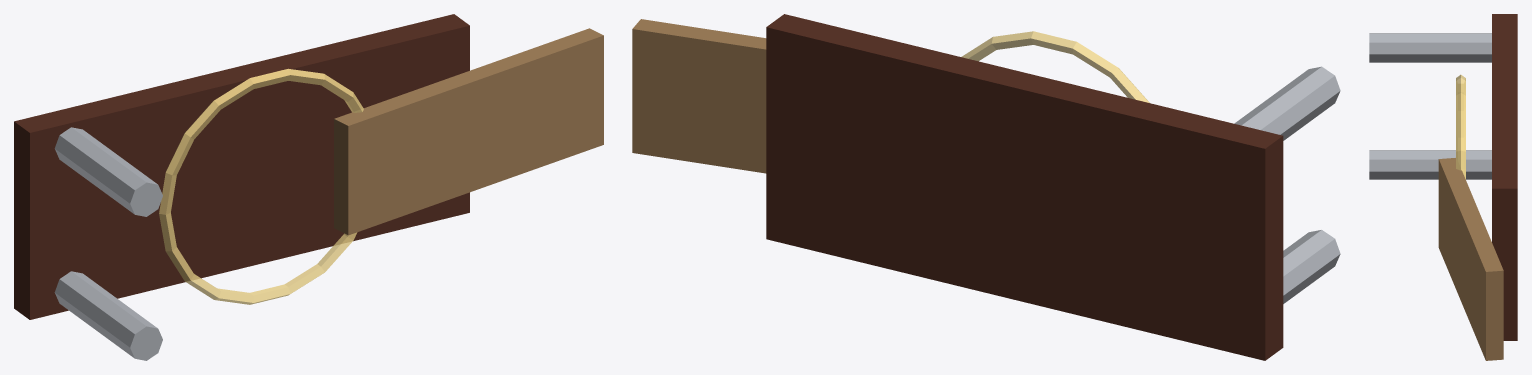
File: 10_skyship_dock.glb
3 renders of one model, left to right at view 1: azimuth 30°, elevation 25°; view 2: azimuth 150°, elevation 25°; view 3: azimuth 270°, elevation 25°, orthographic. The views are drawn at different scales.
Parts seen in each view (by area): view 1: dock_platform, boarding_ramp, dock_marker_ring, mooring_post_l, mooring_post_r; view 2: dock_platform, boarding_ramp, mooring_post_r, dock_marker_ring, mooring_post_l; view 3: boarding_ramp, dock_platform, mooring_post_r, mooring_post_l, dock_marker_ring.
Part boxes in pixels (x1=…): dock_platform: x1=14, y1=14, x2=469, y2=319; boarding_ramp: x1=334, y1=28, x2=603, y2=235; dock_marker_ring: x1=159, y1=68, x2=363, y2=304; mooring_post_l: x1=54, y1=271, x2=162, y2=360; mooring_post_r: x1=54, y1=127, x2=162, y2=216; dock_platform: x1=766, y1=14, x2=1283, y2=360; boarding_ramp: x1=632, y1=19, x2=766, y2=173; mooring_post_r: x1=1234, y1=66, x2=1340, y2=140; dock_marker_ring: x1=961, y1=31, x2=1149, y2=102; mooring_post_l: x1=1283, y1=230, x2=1340, y2=303; boarding_ramp: x1=1438, y1=158, x2=1503, y2=360; dock_platform: x1=1492, y1=14, x2=1517, y2=340; mooring_post_r: x1=1369, y1=33, x2=1491, y2=62; mooring_post_l: x1=1369, y1=150, x2=1491, y2=179; dock_marker_ring: x1=1456, y1=74, x2=1465, y2=179.
Bounding box in the file's own units: 1.97 × 0.7485 × 0.5462.
